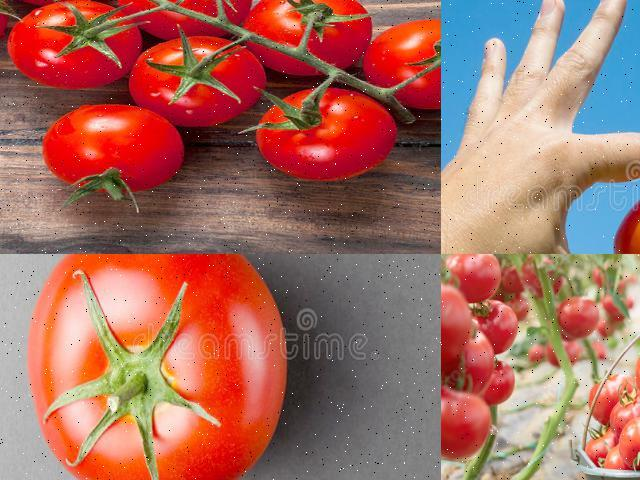tomato: (27, 254, 301, 479), (260, 85, 414, 192), (38, 104, 204, 198), (11, 0, 150, 93), (126, 43, 272, 126), (250, 0, 369, 84), (370, 11, 440, 112), (441, 384, 495, 461), (578, 369, 639, 426), (441, 272, 473, 370), (447, 254, 505, 298), (471, 304, 518, 352), (607, 419, 639, 472), (560, 294, 600, 335), (484, 366, 517, 413), (545, 338, 584, 366), (613, 402, 639, 427)
